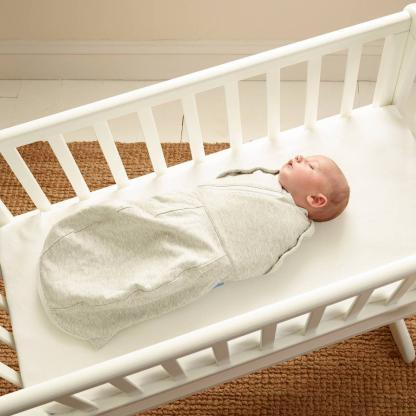baby: (38, 154, 351, 342)
